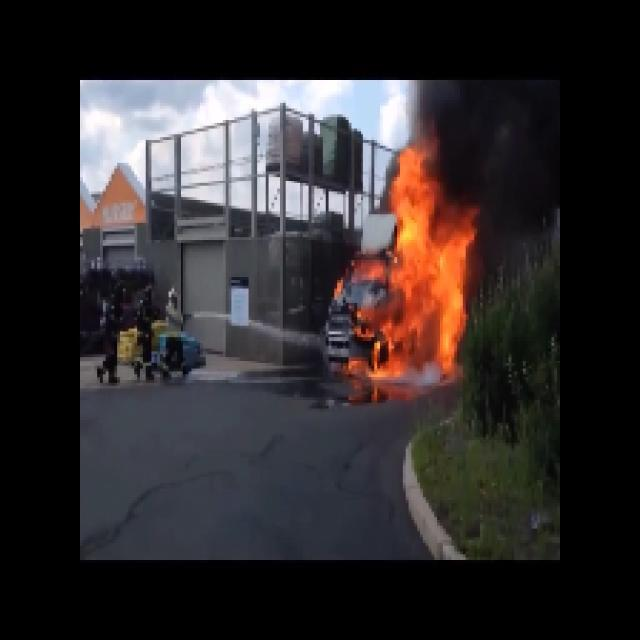Fire: (354, 168, 474, 376)
Smoke: (430, 78, 554, 172)
